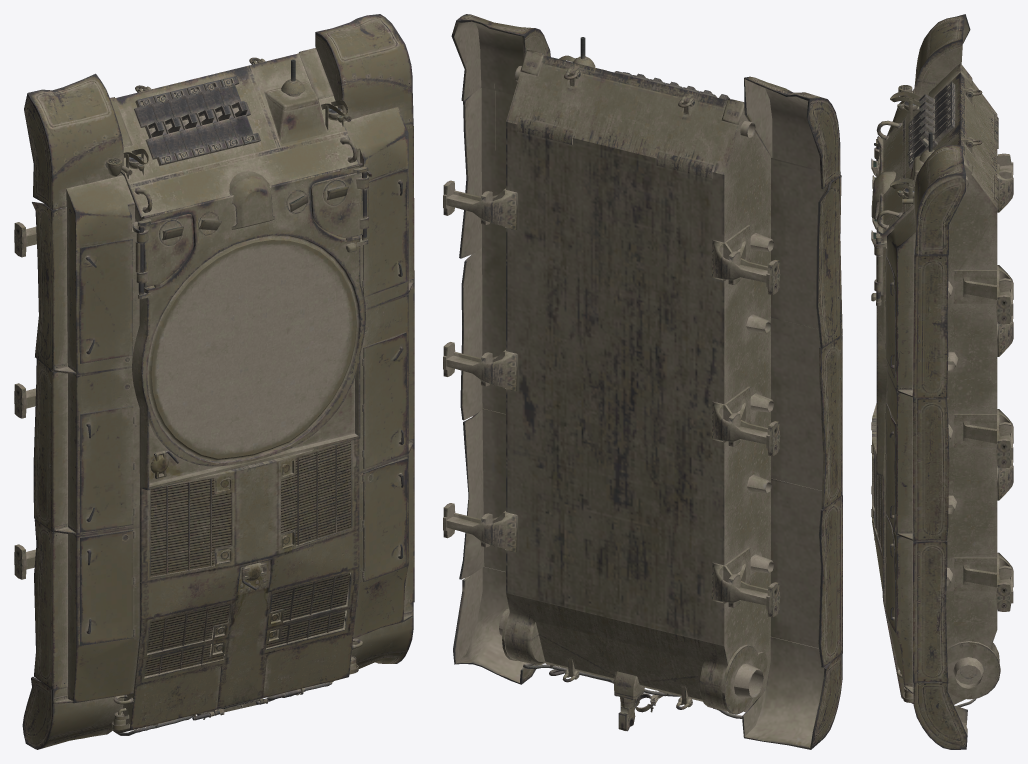
Rendered from Hull.glb.
The picture shows the model from 3 angles, left to right: view 1: azimuth 30°, elevation 25°; view 2: azimuth 150°, elevation 25°; view 3: azimuth 270°, elevation 25°; orthographic projection. The views are drawn at different scales.
Visible parts, largest first — view 1: set_0_group_0; view 2: set_0_group_0; view 3: set_0_group_0.
Part boxes in pixels (<box>): set_0_group_0: <box>14,14,414,749</box>; set_0_group_0: <box>443,14,842,749</box>; set_0_group_0: <box>871,14,1013,749</box>.
Size of the model in its own units: 3.54 by 6.19 by 1.33.
1 material, 1 textured.
